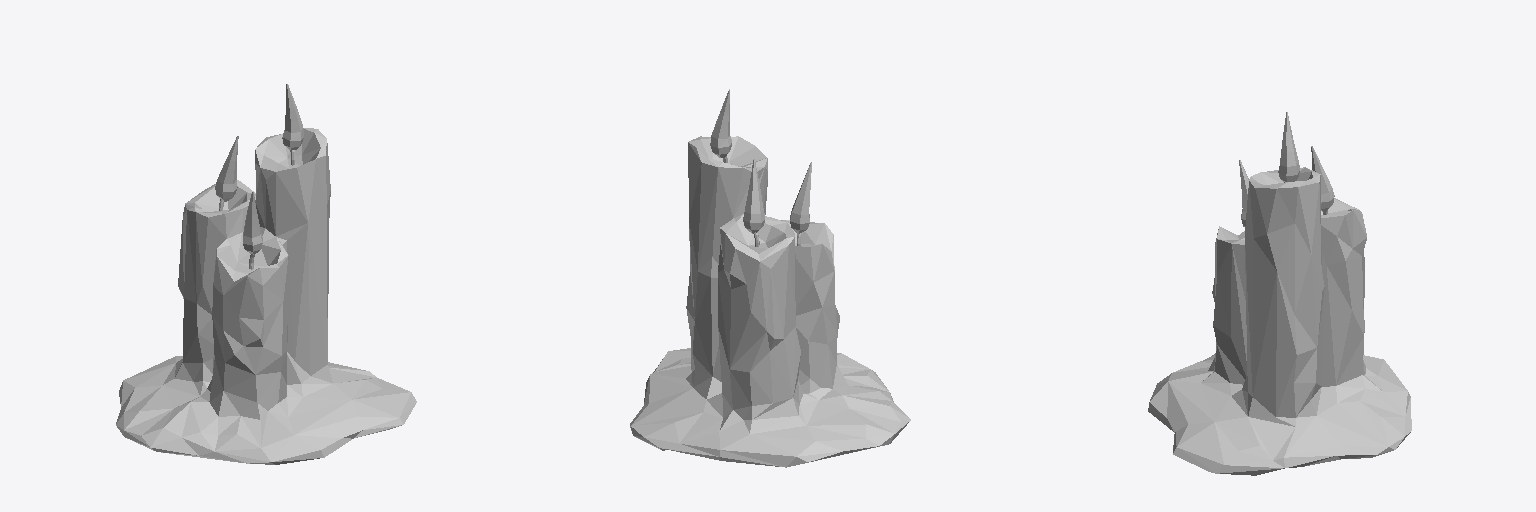
The model's file is candle3.obj.
The picture shows the model from 3 angles: view 1: azimuth 30°, elevation 25°; view 2: azimuth 150°, elevation 25°; view 3: azimuth 270°, elevation 25°; orthographic projection.
Parts seen in each view (by area): view 1: Object003, candleflame003, candleflame002, candleflame001; view 2: Object003, candleflame002, candleflame003, candleflame001; view 3: Object003, candleflame003, candleflame002.
Boxes of the visible parts, box(x1,y1,x2,y2) form: Object003: box(116, 128, 416, 464); candleflame003: box(282, 84, 303, 149); candleflame002: box(215, 136, 238, 201); candleflame001: box(243, 191, 262, 254); Object003: box(630, 136, 910, 467); candleflame002: box(743, 159, 764, 233); candleflame003: box(710, 89, 731, 157); candleflame001: box(790, 162, 811, 233); Object003: box(1148, 167, 1411, 475); candleflame003: box(1278, 112, 1299, 181); candleflame002: box(1311, 146, 1334, 211).
Size of the model in its own units: 1.05 by 1.24 by 0.9231.